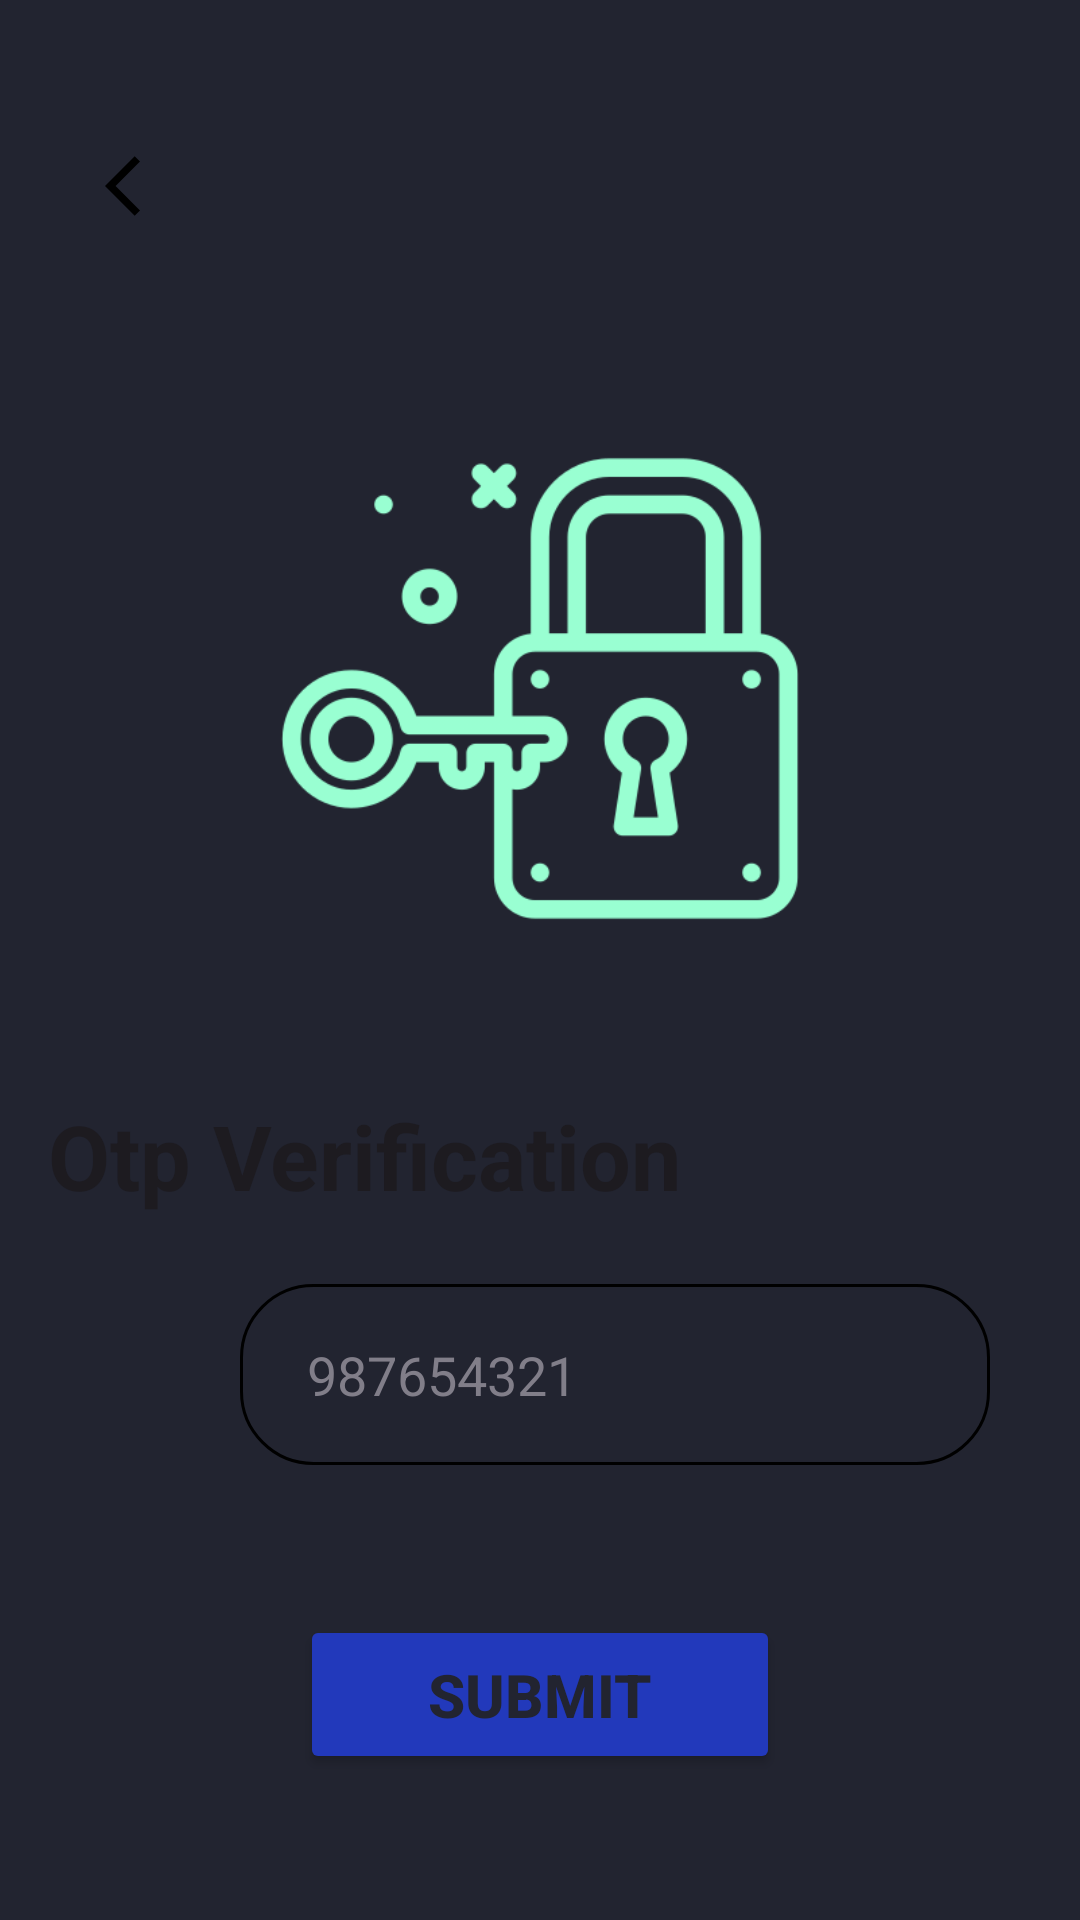

Named icons in this screenshot (1080 × 1920) and their centers, (x=x, y=y):
arrow back: (x=123, y=186)
